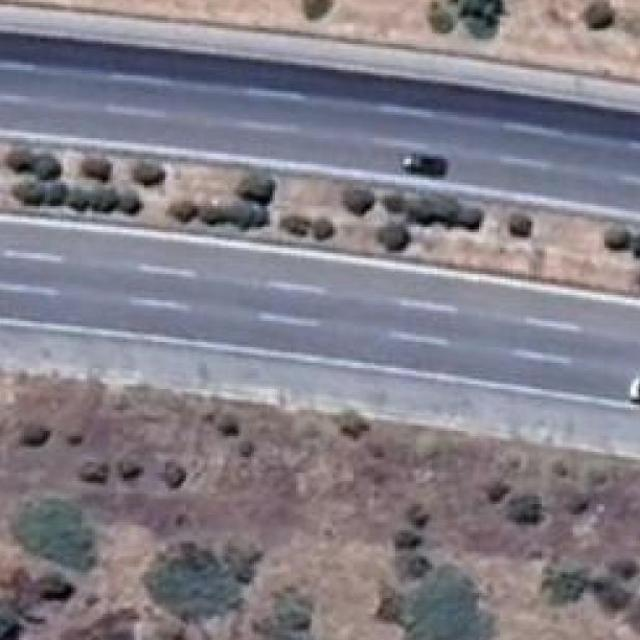Tree: (408, 553, 492, 640), (148, 543, 232, 621), (12, 495, 88, 573), (453, 0, 505, 41), (408, 0, 456, 39), (148, 455, 188, 495), (124, 159, 168, 194), (235, 166, 277, 202), (15, 415, 50, 458), (337, 188, 376, 226), (578, 0, 617, 37), (329, 410, 364, 451), (297, 0, 338, 32), (113, 446, 144, 488), (372, 222, 408, 257), (80, 152, 115, 188), (502, 211, 539, 245), (0, 143, 35, 178), (163, 193, 197, 229), (506, 491, 544, 523), (0, 180, 45, 207), (397, 499, 429, 534), (599, 219, 631, 253), (76, 459, 108, 493), (308, 216, 338, 251), (605, 551, 636, 583), (116, 185, 144, 220), (212, 410, 240, 440), (621, 262, 640, 304), (384, 530, 419, 552), (382, 190, 406, 218), (62, 426, 86, 454)
